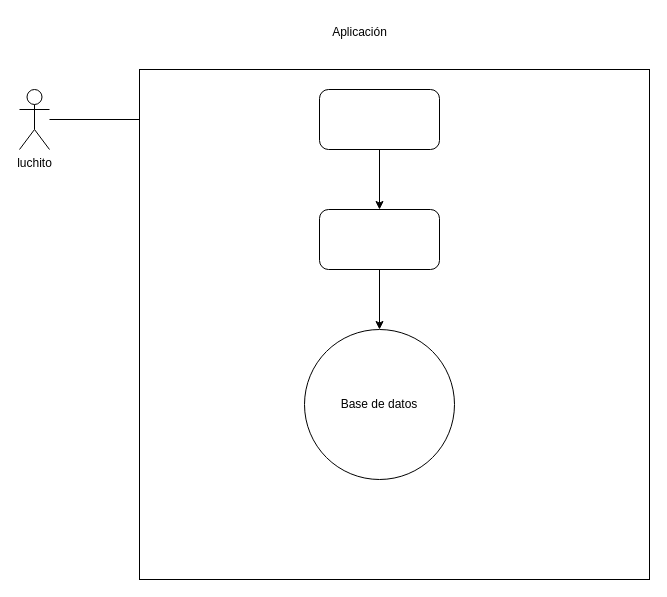
The diagram is 667 pixels wide and 597 high, and some of its shapes have lost their labels. The shapes that lost their labels are listed below. From the top down, each one's centre as x and y in pixels, then its label:
At point (379, 119): "sistema cliente".
At point (379, 239): "sistema Servidor".
